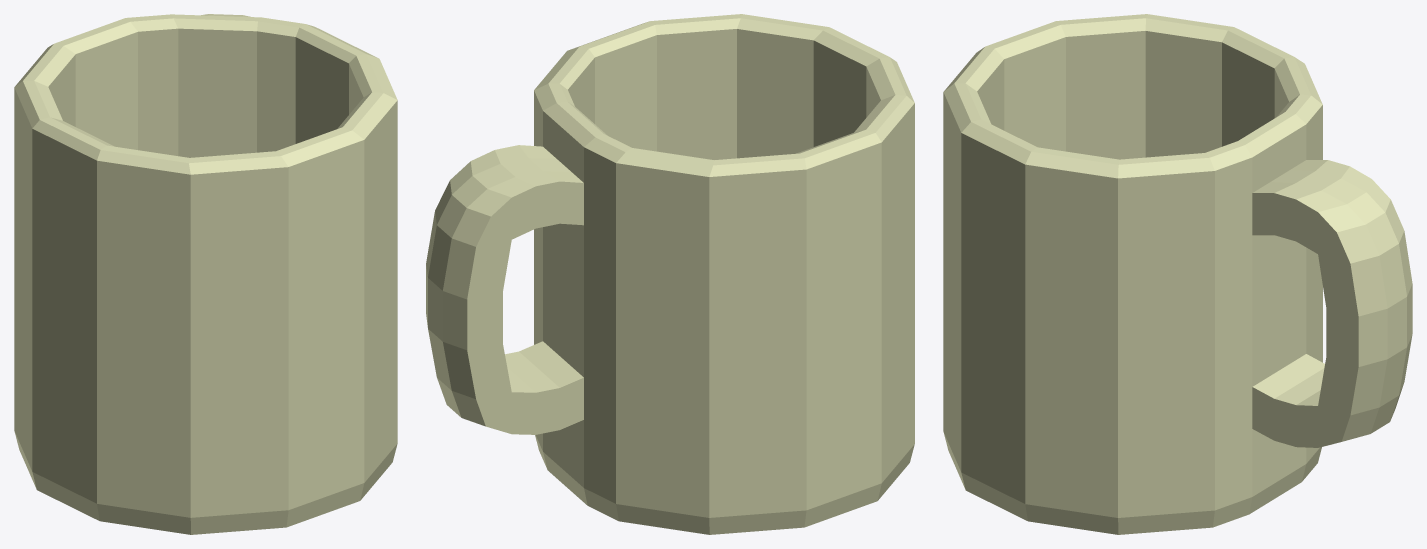
Rendered from kryshka.fbx.
3 renders of one model, left to right at view 1: azimuth 30°, elevation 25°; view 2: azimuth 150°, elevation 25°; view 3: azimuth 270°, elevation 25°, orthographic.
Visible parts, largest first — view 1: kryhka; view 2: kryhka; view 3: kryhka.
Boxes of the visible parts, x1,y1,x2,y2 form: kryhka: (14,14,397,534); kryhka: (426,14,914,534); kryhka: (943,14,1412,534).
Bounding box in the file's own units: 3.86 × 3.88 × 4.5.
